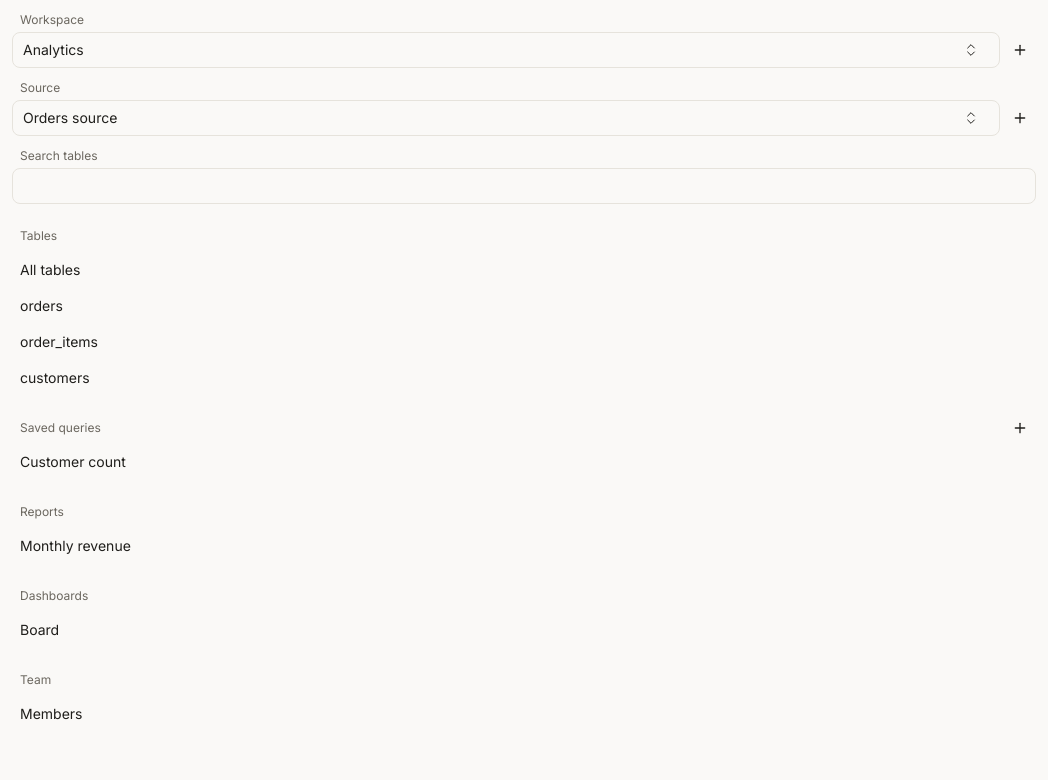
Test case: filters tables and saved queries by the search text and announces the result
Type "order" into the search field labelled "Search tables". click: (524, 186)
box: [12, 168, 1036, 204]
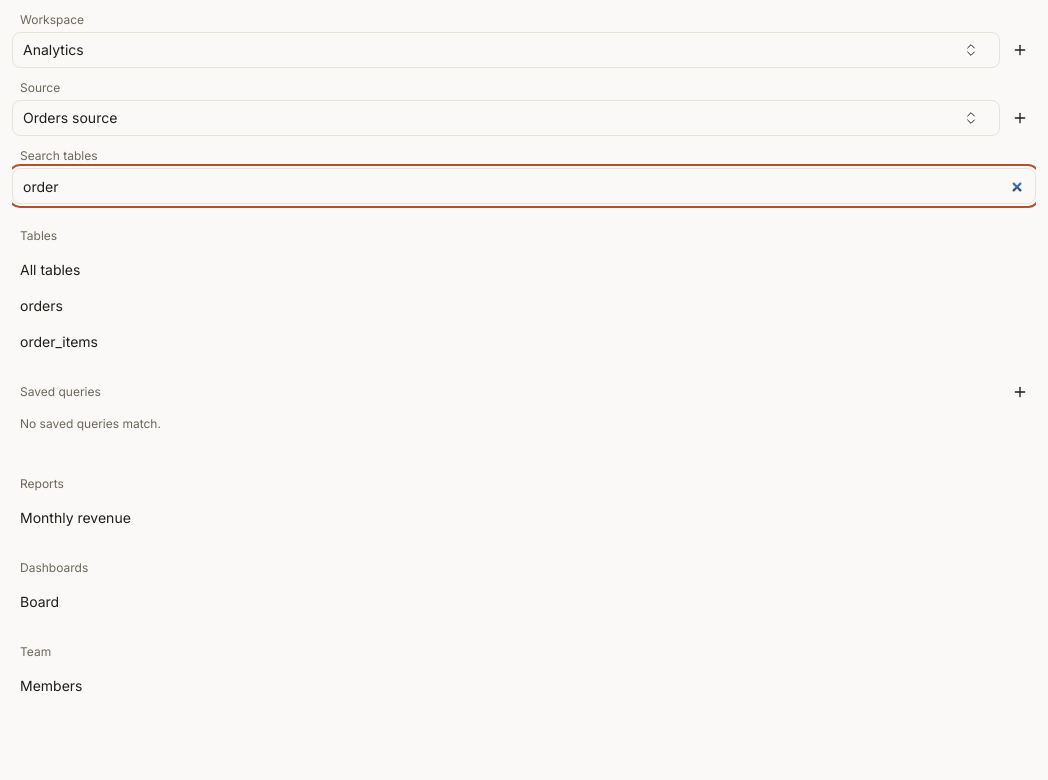
Check: the button "order_items" is shown, box [12, 324, 1036, 360]
Check: the button "customers" is gone
Replace the text in the search field labelled "Search tables" with "zzz". click: (524, 186)
box: [12, 168, 1036, 204]
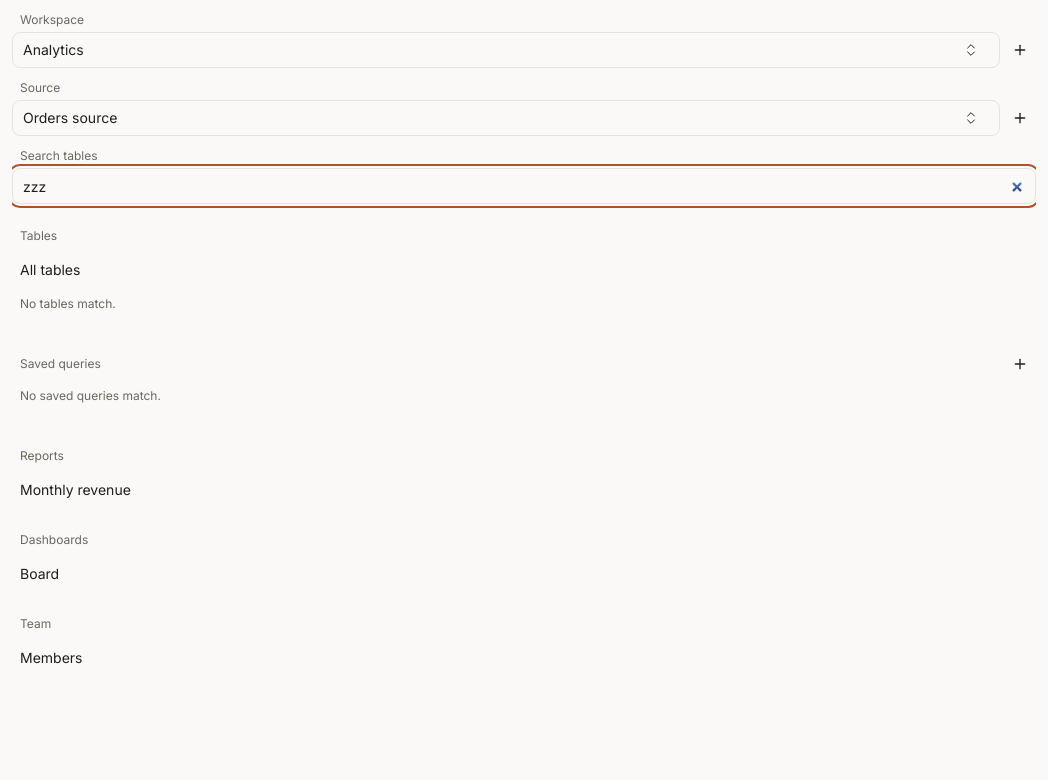
Check: the text "No tables match." is shown, box [20, 296, 116, 311]
Check: the text "No saved queries match." is shown, box [20, 388, 161, 403]
